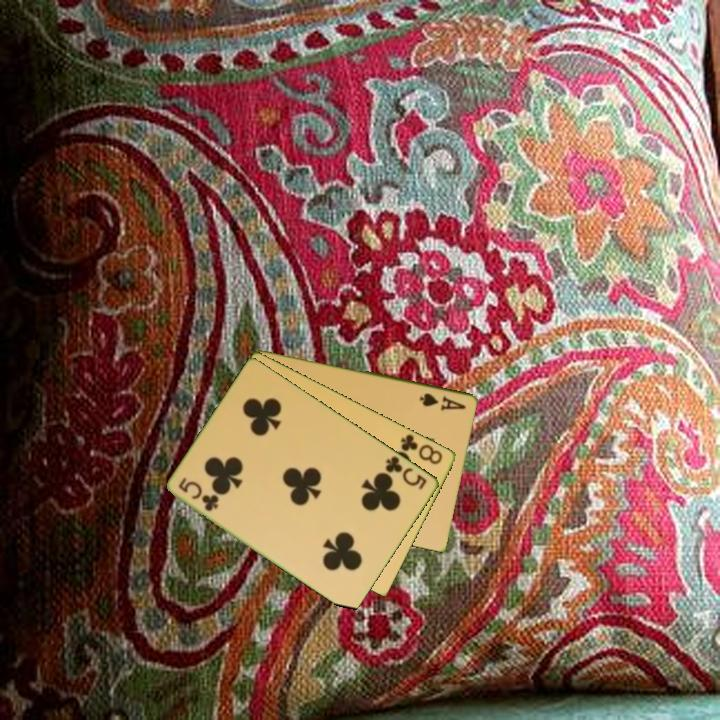5c: (382, 452, 430, 493), (175, 474, 222, 514)
8c: (397, 430, 446, 467)
As: (416, 389, 469, 414)
